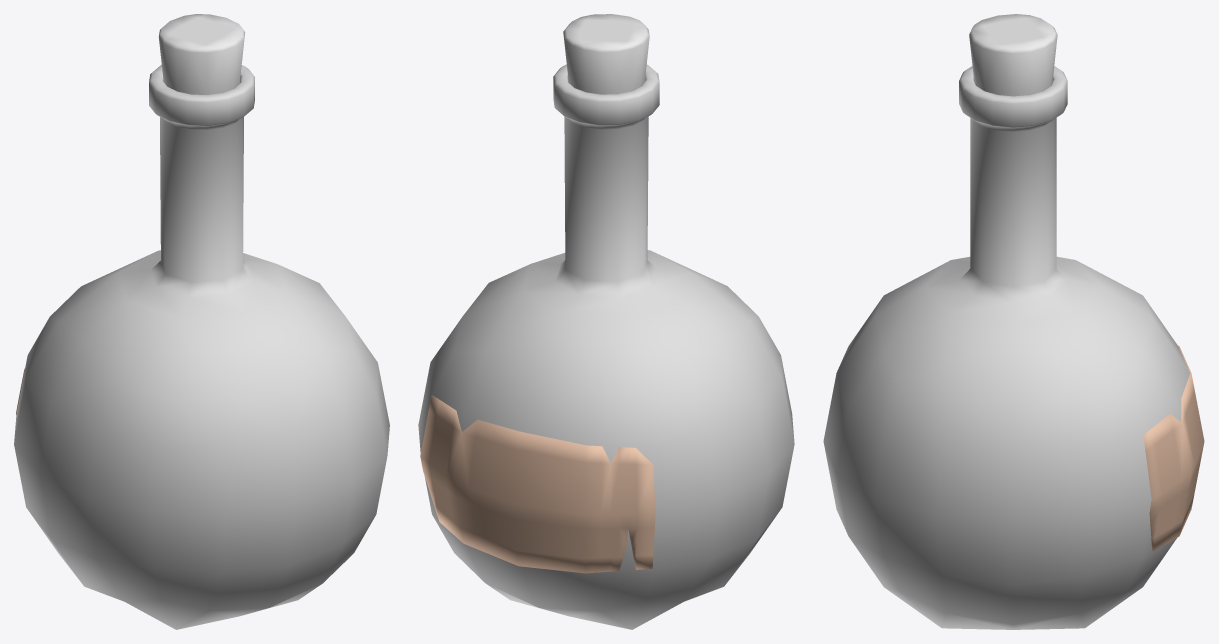
Rendered from Potion1.fbx.
The picture shows the model from 3 angles, left to right: view 1: azimuth 30°, elevation 25°; view 2: azimuth 150°, elevation 25°; view 3: azimuth 270°, elevation 25°; orthographic projection.
Parts seen in each view (by area): view 1: Potion1; view 2: Potion1; view 3: Potion1.
Boxes of the visible parts, <box> form: Potion1: <box>14,14,389,629</box>; Potion1: <box>418,14,794,629</box>; Potion1: <box>823,14,1204,629</box>.
Bounding box in the file's own units: 1.05 × 1.73 × 1.05.
